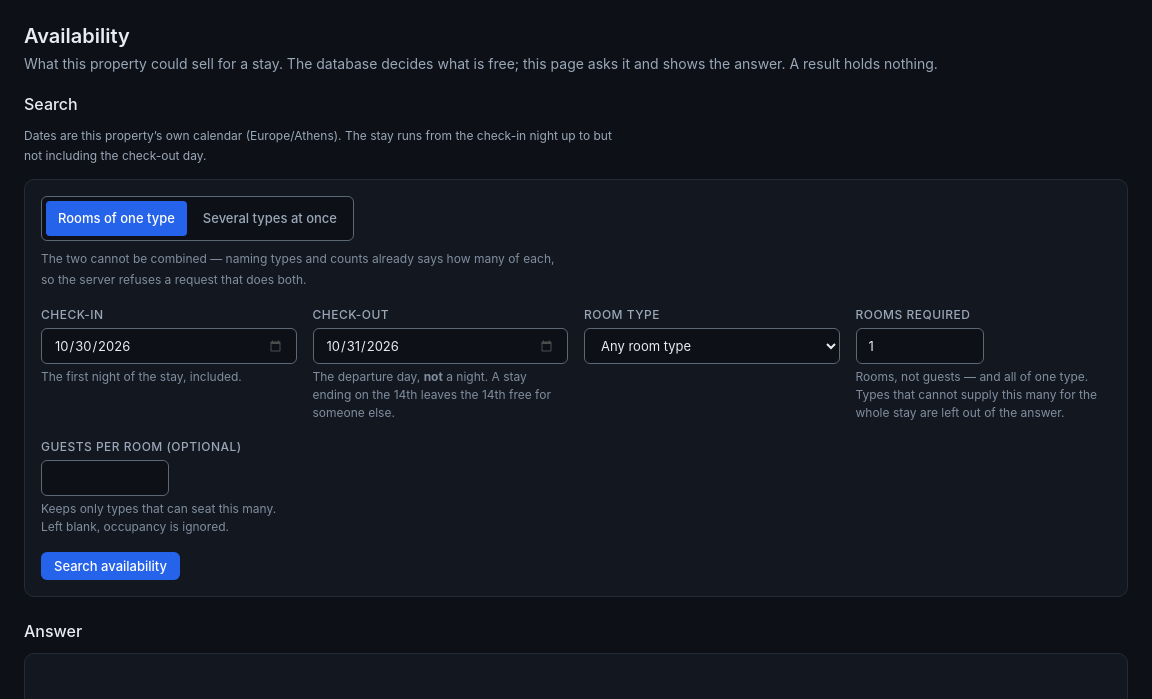
Test: before a search › loads the room-type catalogue exactly once
Type "2027-05-03" into the date field labelled "Check-in" at (169, 346), box [41,328,296,364]
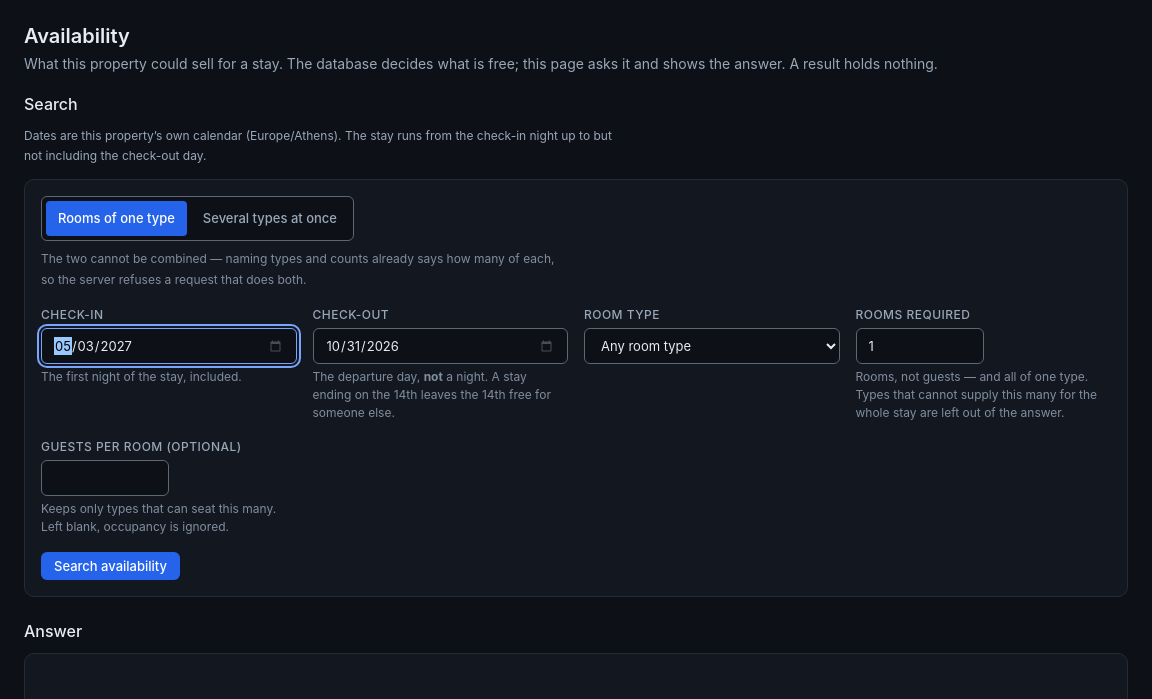
Type "2027-05-05" into the date field labelled "Check-out" at (440, 346), box [312,328,568,364]
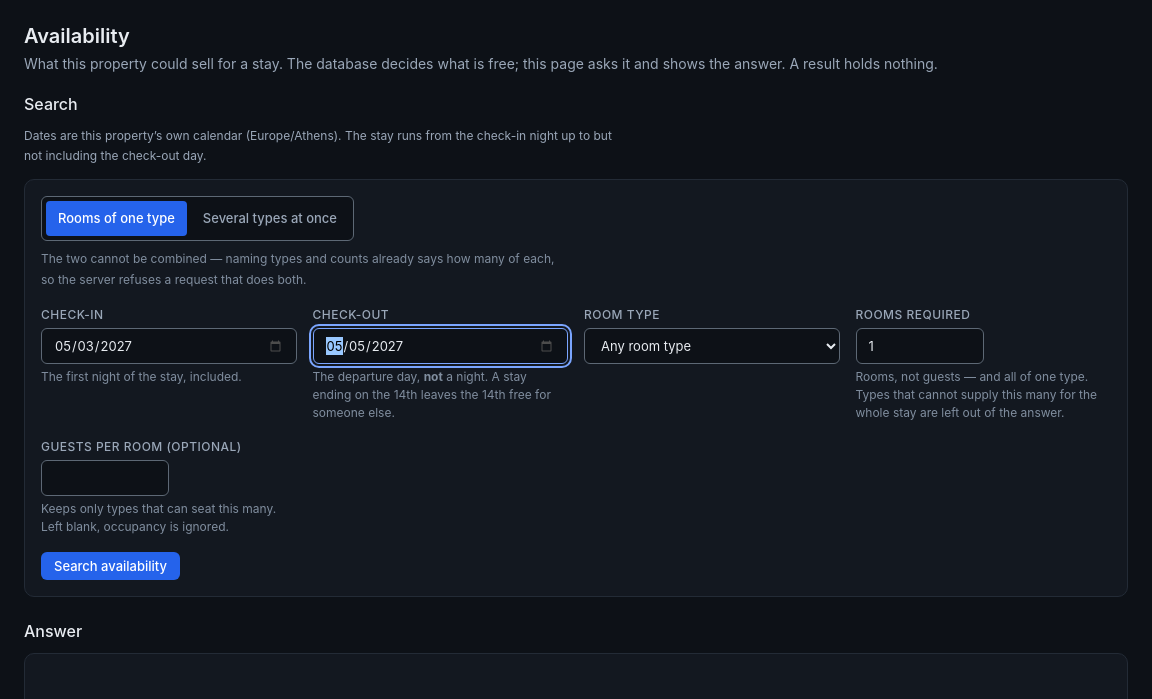
Click the button "Search availability" at (110, 566), box [41,552,180,580]
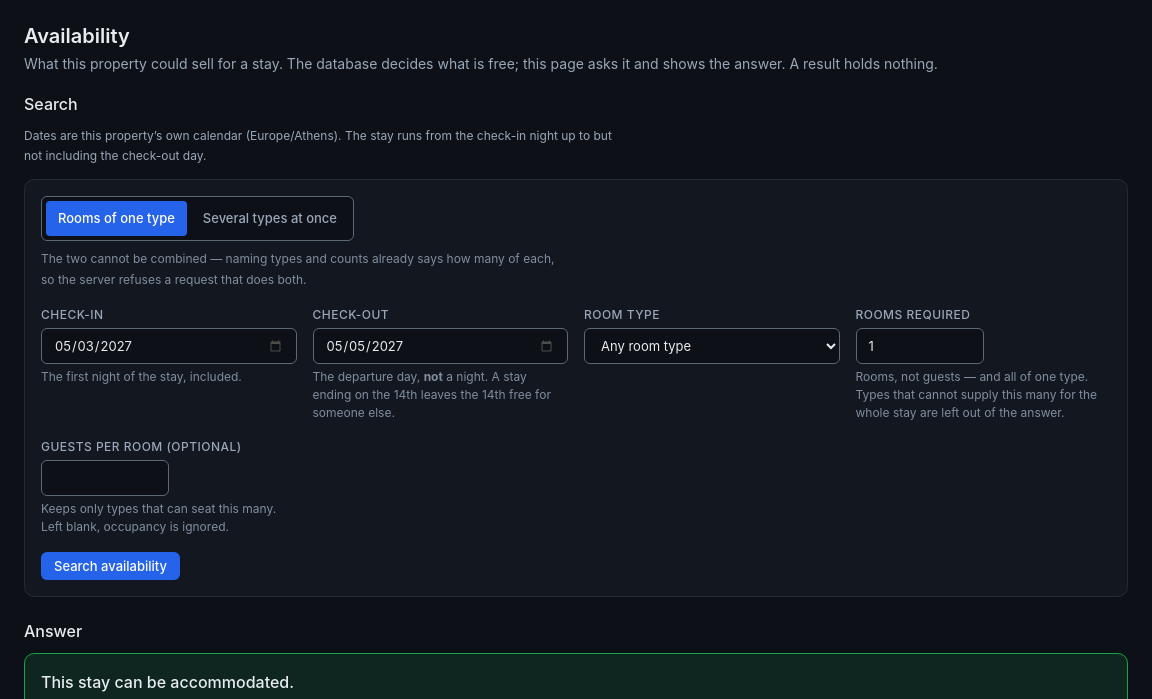
Check: the text "This stay can be accommodated." is shown, box [41,672,294,692]
